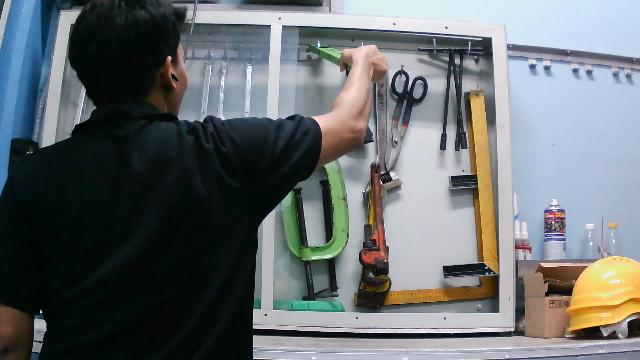water_pass: (304, 38, 388, 82)
